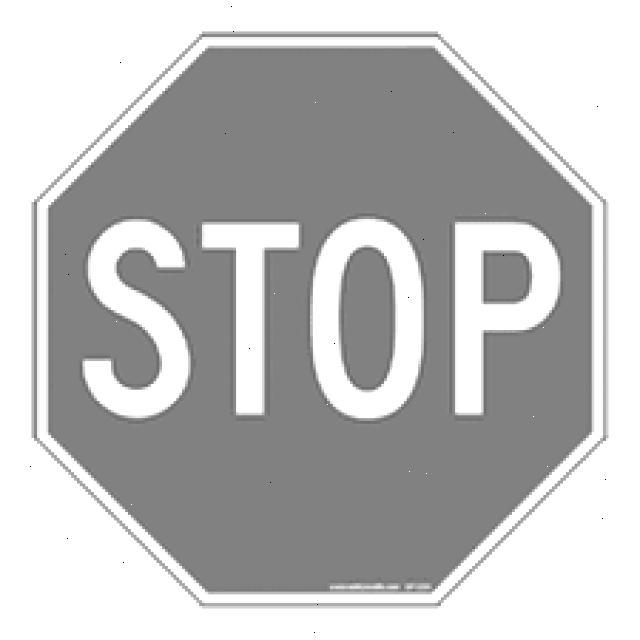stop sign: (36, 30, 612, 613)
